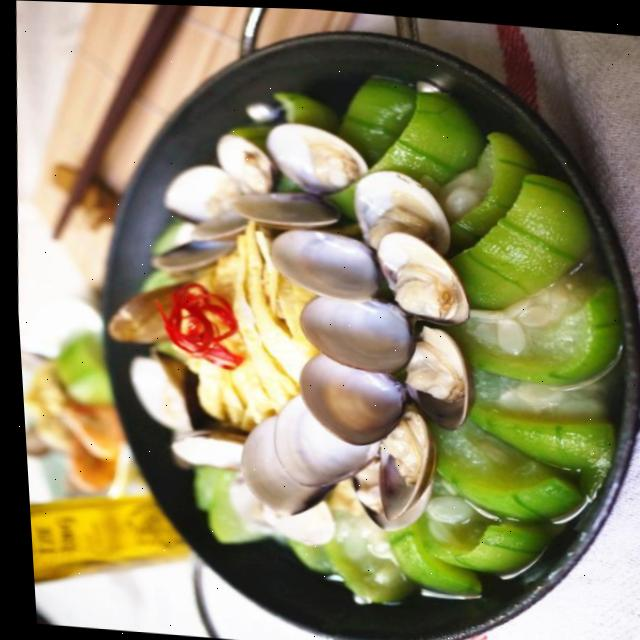Wet: (99, 69, 597, 578)
